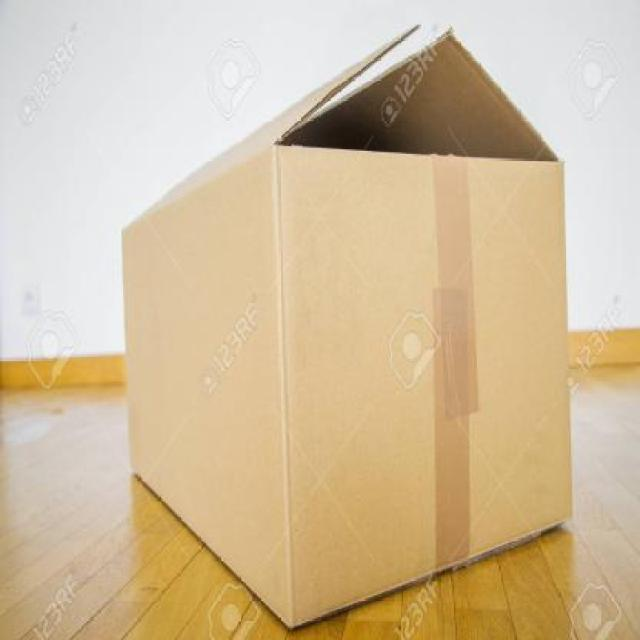box: (119, 21, 572, 630)
opened: (123, 23, 570, 230)
